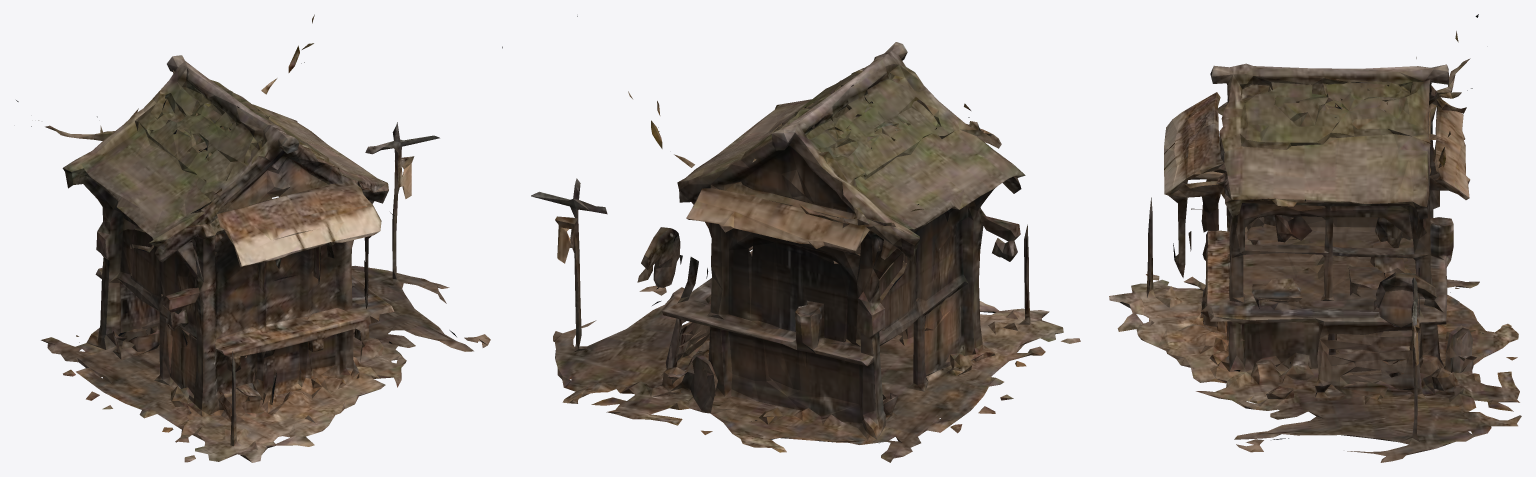
File: hut_mossy_ruined_a_lod0.glb
3 renders of one model, left to right at view 1: azimuth 30°, elevation 25°; view 2: azimuth 150°, elevation 25°; view 3: azimuth 270°, elevation 25°, orthographic. The views are drawn at different scales.
Parts seen in each view (by area): view 1: hut_mossy_ruined_a_lod0; view 2: hut_mossy_ruined_a_lod0; view 3: hut_mossy_ruined_a_lod0.
Boxes of the visible parts, x1,y1,x2,y2 form: hut_mossy_ruined_a_lod0: (16,14,502,462); hut_mossy_ruined_a_lod0: (531,16,1080,462); hut_mossy_ruined_a_lod0: (1109,14,1521,462).
Bounding box in the file's own units: 4.95 × 3.24 × 4.26.
Materials: 1 (1 with a texture image).
